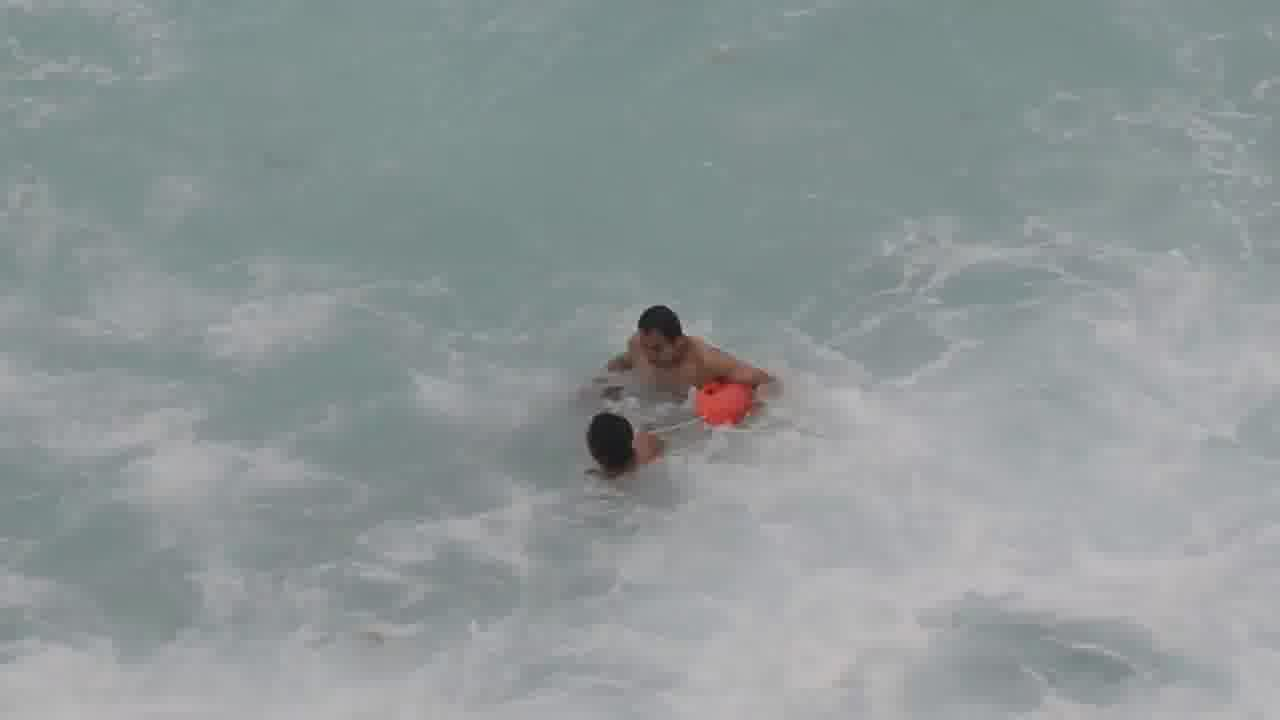human: (589, 306, 787, 422), (558, 397, 676, 492)
